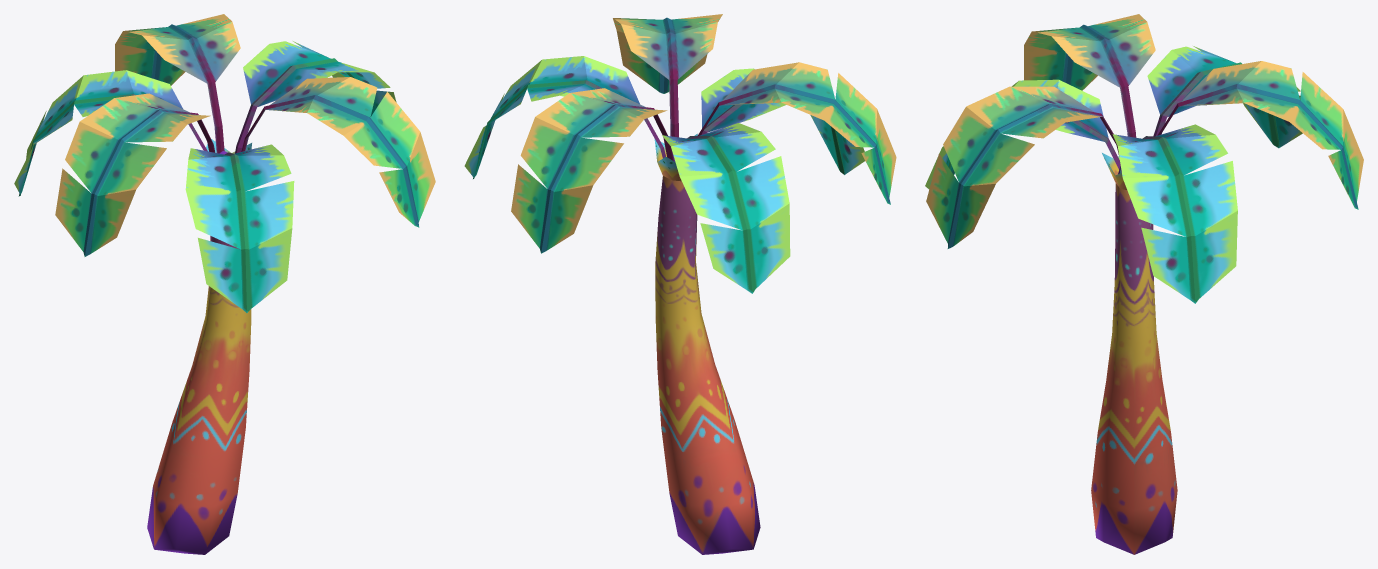
Rendered from Palmtree2.fbx.
3 views of the same model, side by side, from view 1: azimuth 30°, elevation 25°; view 2: azimuth 150°, elevation 25°; view 3: azimuth 270°, elevation 25° (orthographic). The views are drawn at different scales.
Visible parts, largest first — view 1: PalmTree2; view 2: PalmTree2; view 3: PalmTree2.
Boxes of the visible parts, left/top/right/bottom form: PalmTree2: left=14, top=14, right=435, bottom=554; PalmTree2: left=464, top=14, right=896, bottom=554; PalmTree2: left=925, top=14, right=1363, bottom=554.
Size of the model in its own units: 325 by 395 by 316.
